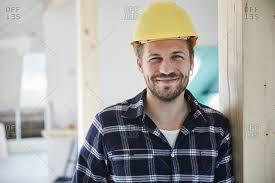helmet: (130, 0, 200, 47)
